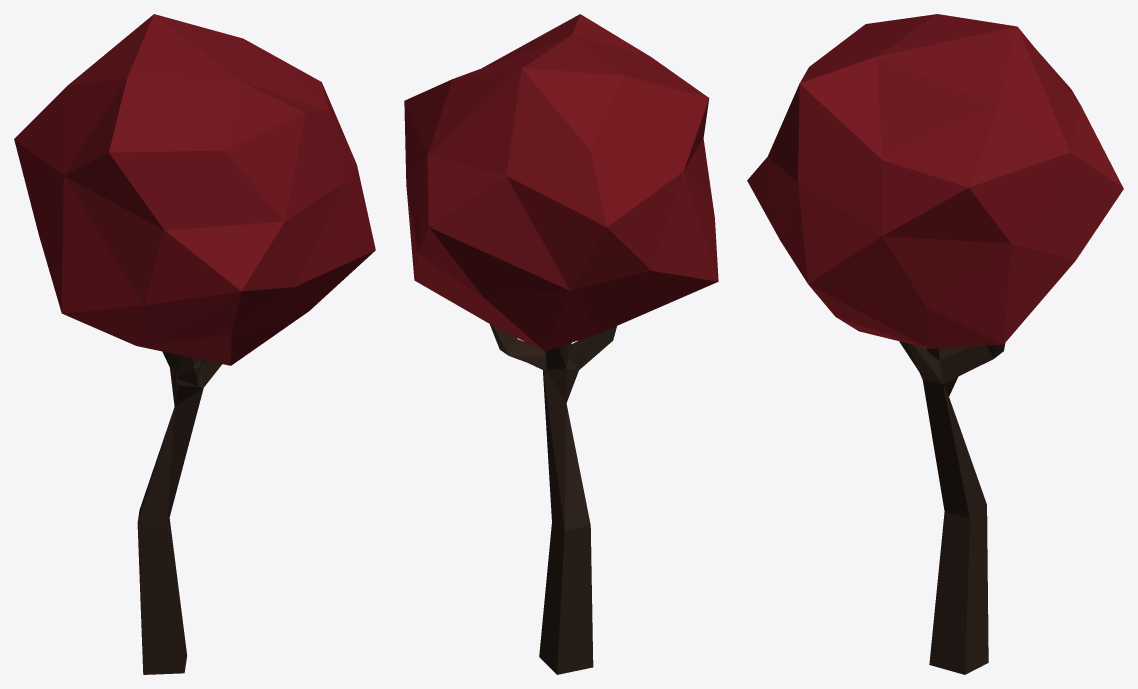
Rendered from Arvore01.fbx.
3 views of the same model, side by side, from view 1: azimuth 30°, elevation 25°; view 2: azimuth 150°, elevation 25°; view 3: azimuth 270°, elevation 25° (orthographic). The views are drawn at different scales.
Visible parts, largest first — view 1: Icosphere; view 2: Icosphere; view 3: Icosphere.
Part boxes in pixels (<box>): Icosphere: <box>14,14,375,674</box>; Icosphere: <box>404,14,718,674</box>; Icosphere: <box>747,14,1123,674</box>.
Size of the model in its own units: 241 by 496 by 262.
